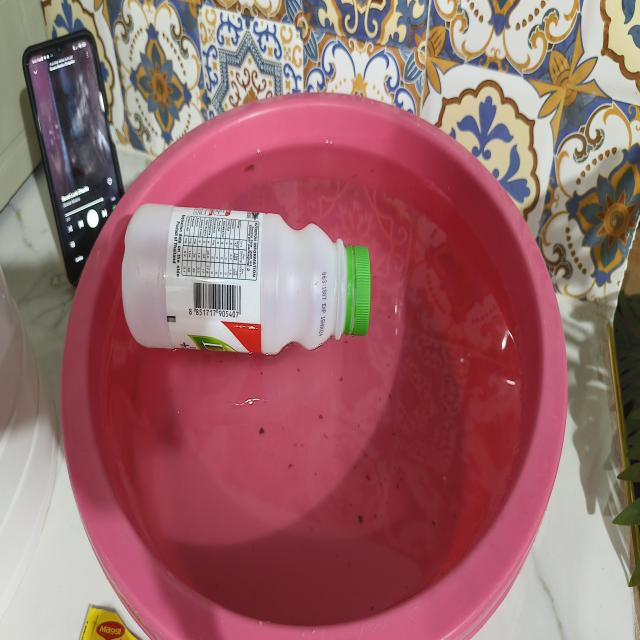Plastic Bottle: (101, 161, 402, 400)
